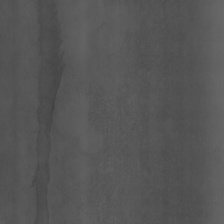water_spot: (32, 5, 71, 214)
